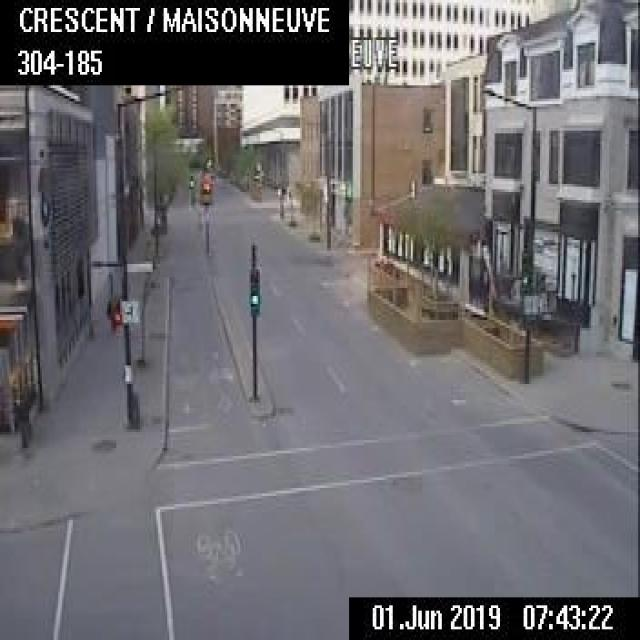pedestrian: (105, 289, 118, 330)
